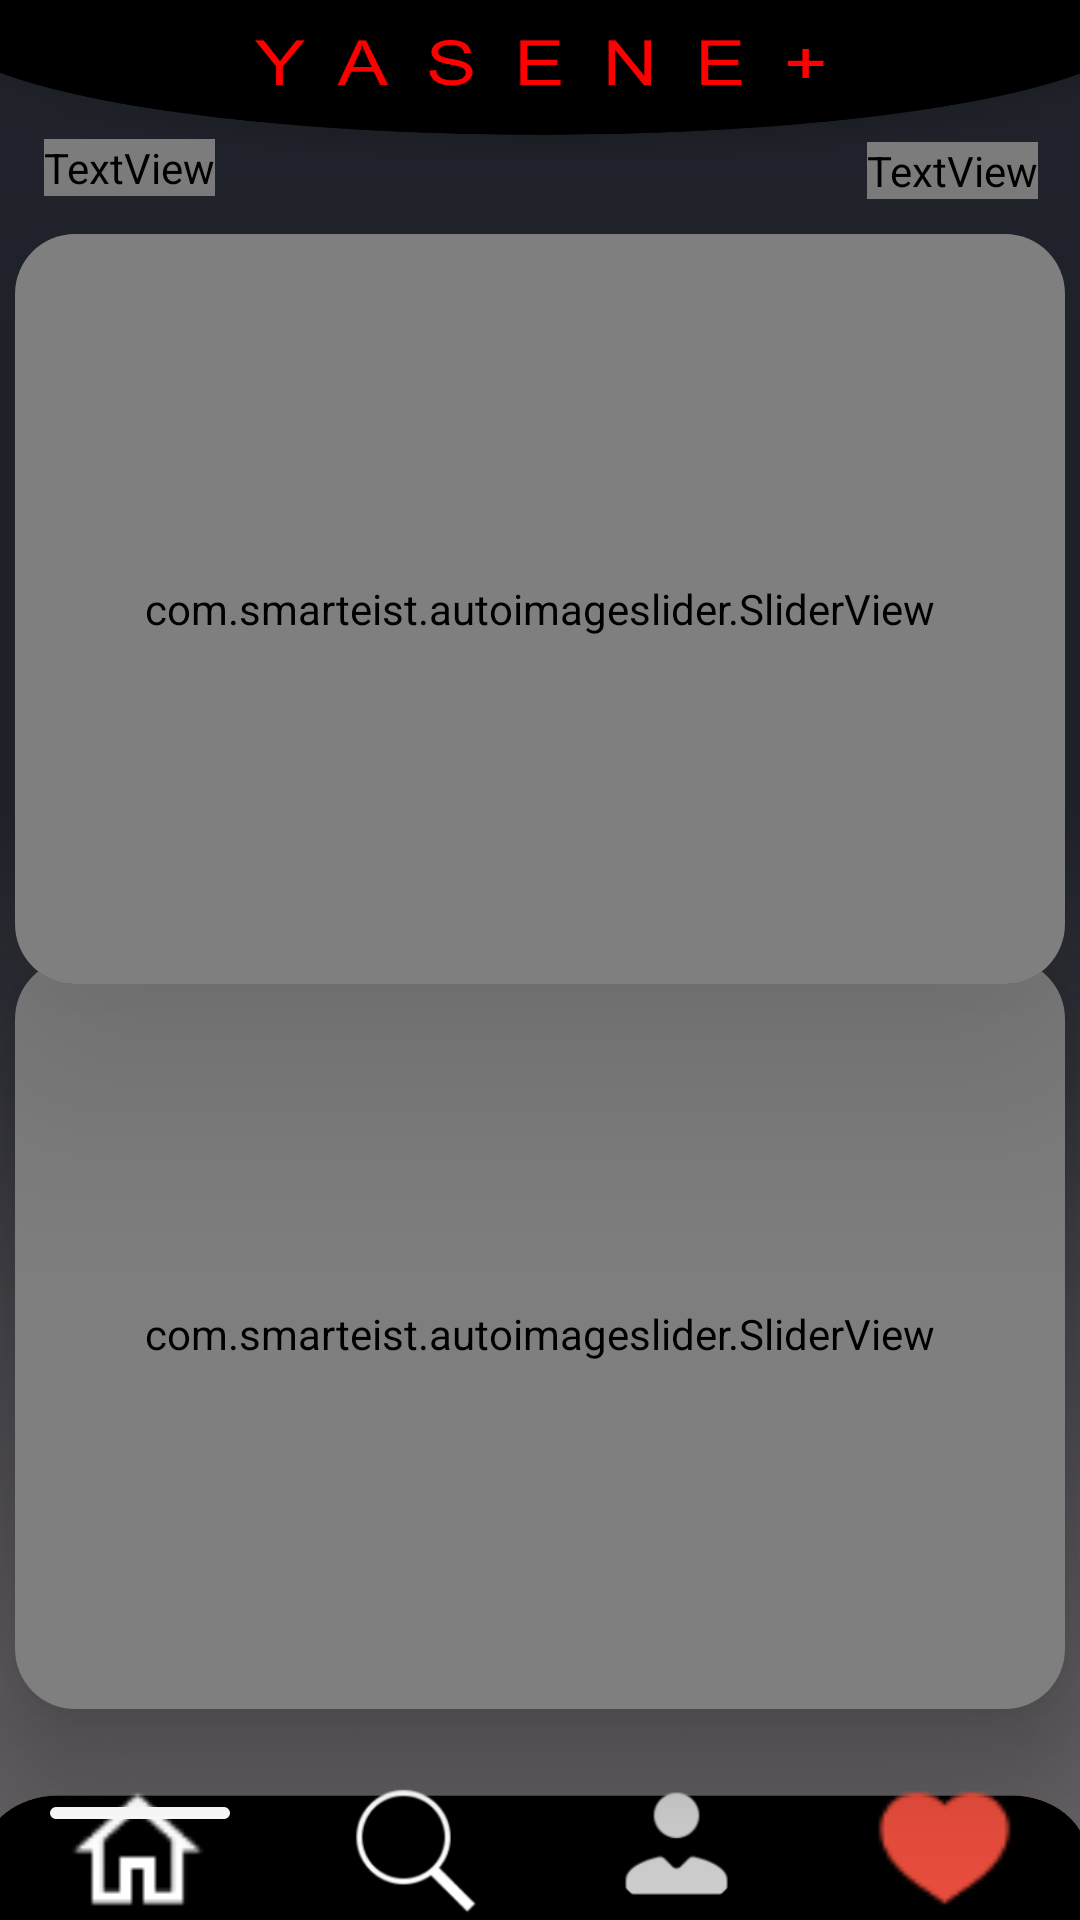

Where to tap for icons on this 1080w x 1920h app screen, as (x=x, y=y):
account: (x=676, y=1843)
heart: (x=944, y=1839)
home: (x=137, y=1851)
search: (x=414, y=1851)
